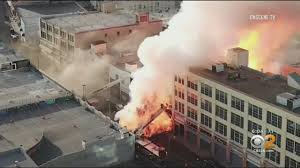smoke: (166, 1, 298, 66), (130, 68, 181, 106), (141, 39, 181, 67)
